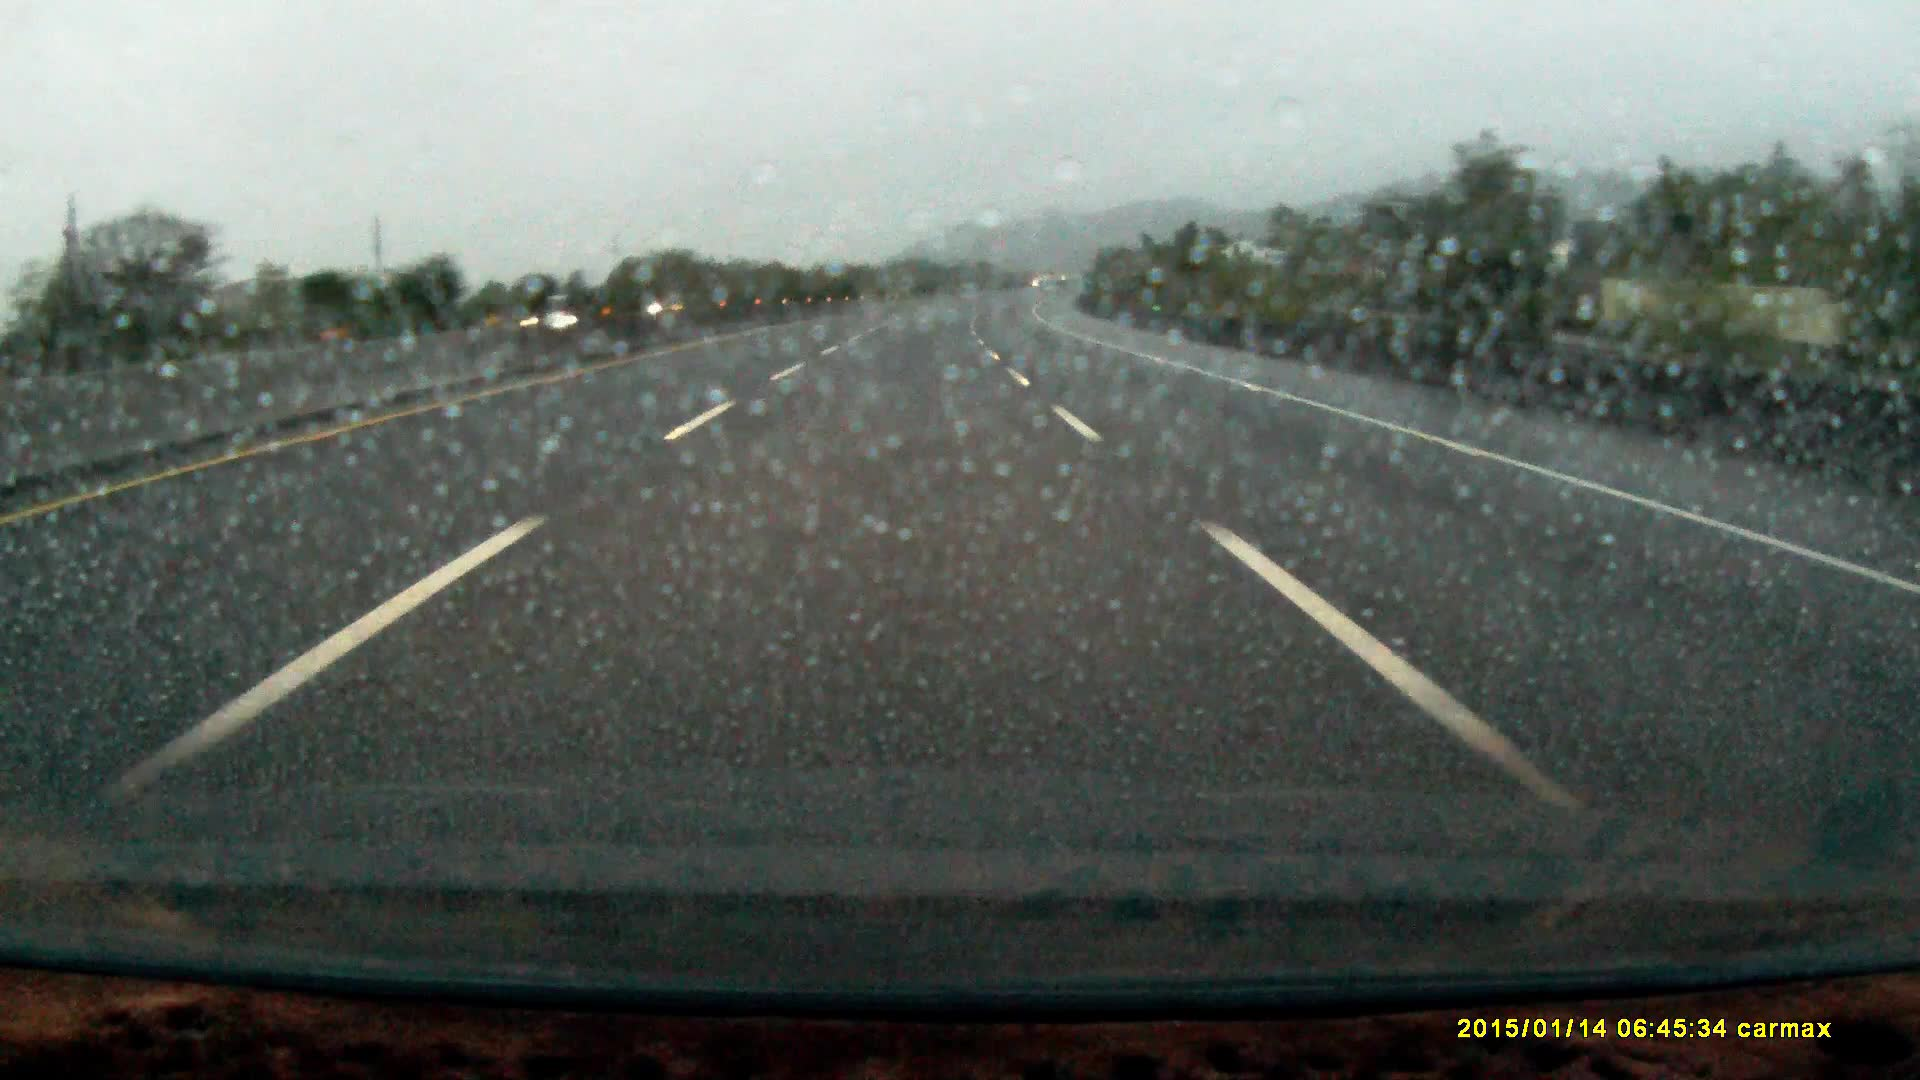vehicle: (524, 299, 626, 334), (645, 291, 713, 320)
